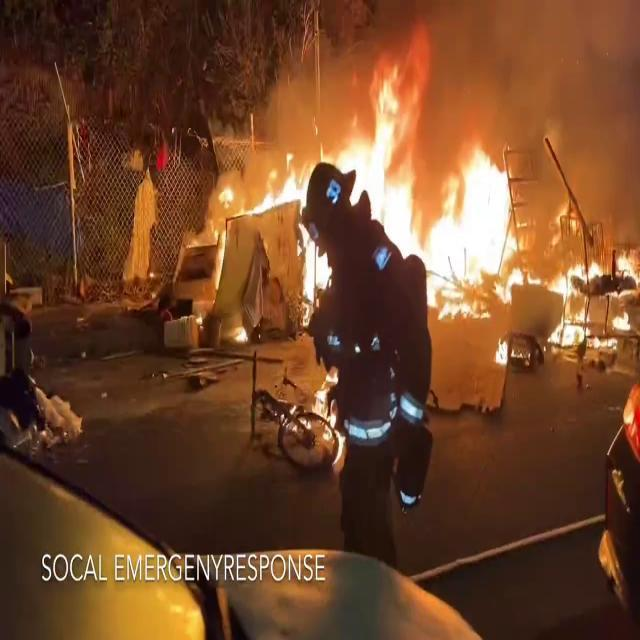Fire: (226, 51, 532, 312), (548, 236, 640, 352), (220, 144, 306, 222)
